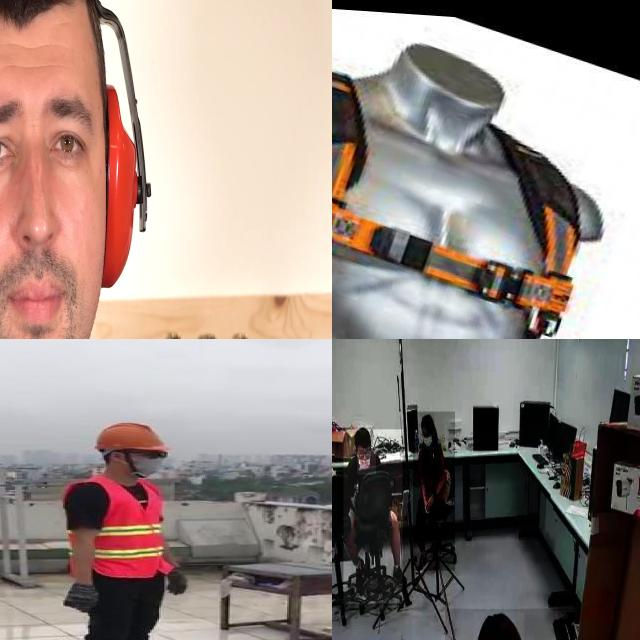Ear-protection: (0, 0, 161, 339)
Harness: (332, 74, 602, 339)
No_Glasses: (0, 66, 103, 221)
face_mask: (357, 450, 376, 474), (422, 428, 434, 456)
hand_noglove: (422, 497, 430, 515), (389, 506, 398, 522), (426, 494, 434, 510)
head_helmet: (90, 421, 172, 451)
head_nohelmet: (473, 612, 524, 640), (353, 427, 371, 445), (421, 413, 435, 428)
person: (0, 0, 204, 339), (54, 417, 197, 640), (343, 430, 403, 604), (413, 412, 455, 572)
shoes: (391, 560, 407, 587)
vest: (64, 477, 178, 574)
